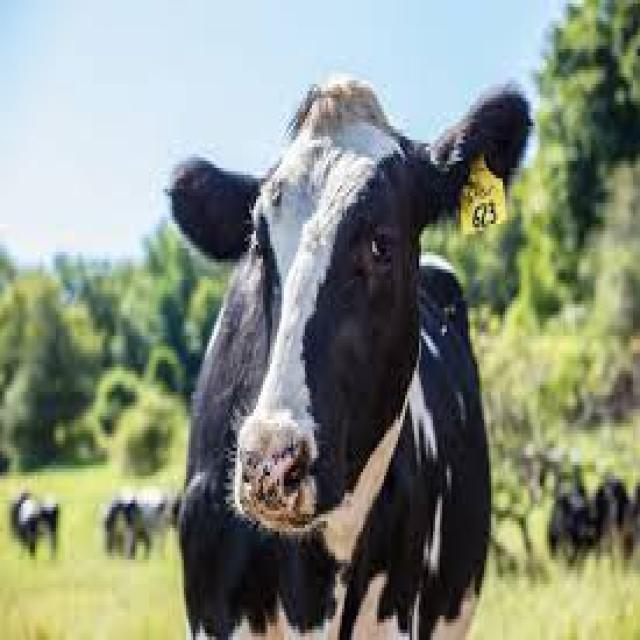cow: (217, 168, 430, 538)
